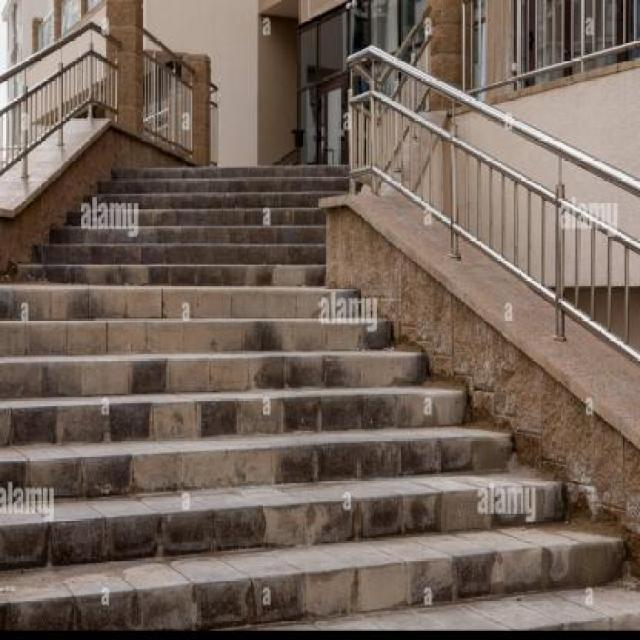stair: (0, 90, 400, 621)
